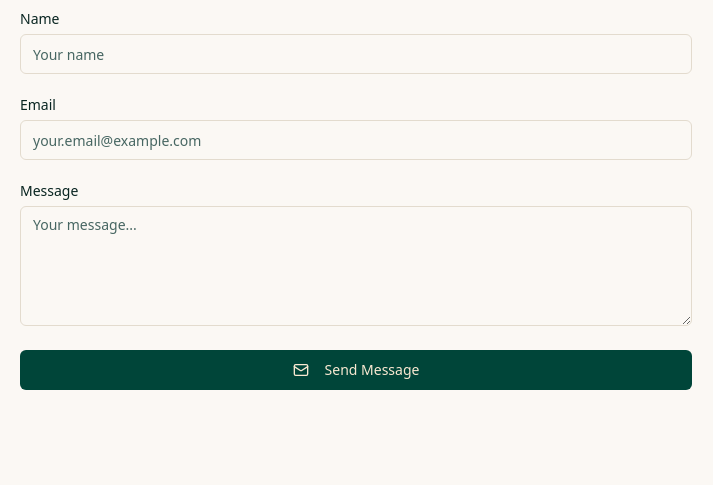
it: ContactForm › should display success message after successful submission
Type "John Doe" into the field labelled "Name". click: (356, 54)
box: [20,34,692,74]
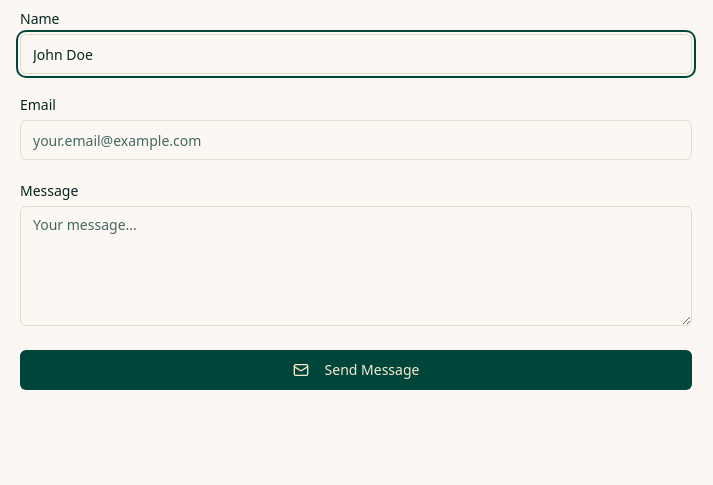
Type "john@example.com" into the field labelled "Email". click: (356, 140)
box: [20,120,692,160]
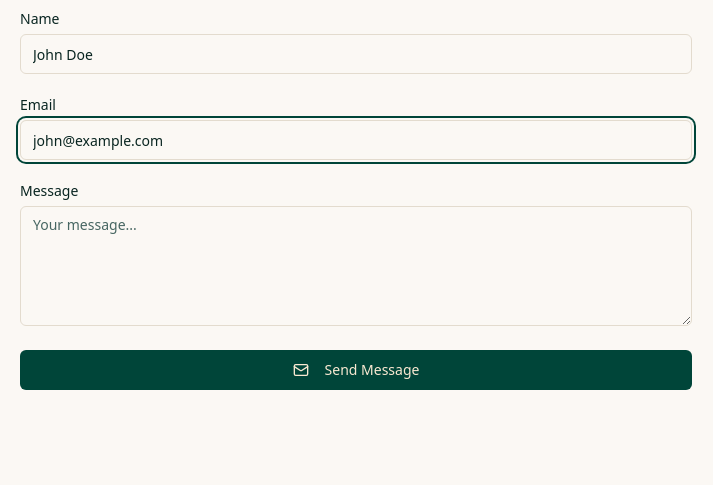
Type "This is a valid message with enough characters" into the text box labelled "Message". click: (356, 266)
box: [20,206,692,326]
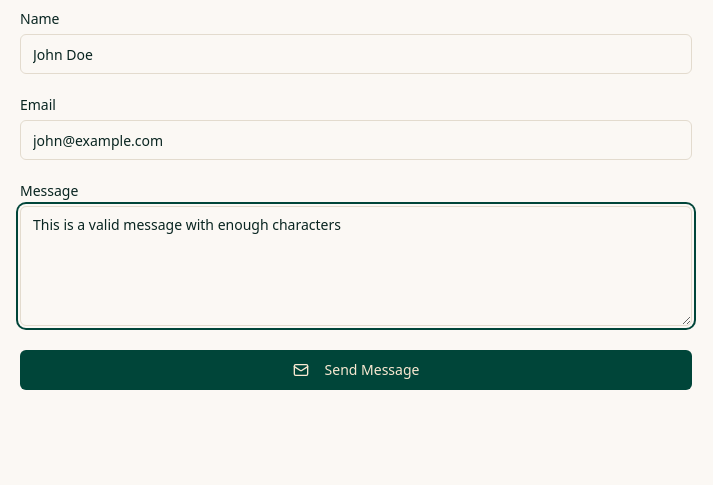
Click the button "Send Message". click: (356, 370)
box: [20,350,692,390]
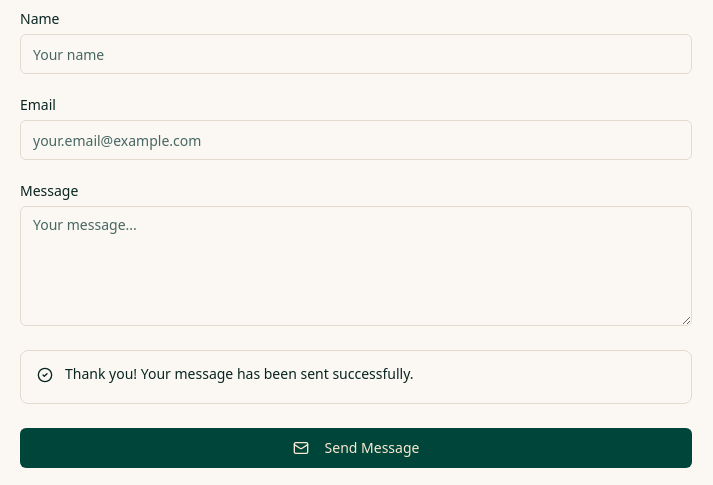
Expected: the text "Thank you! Your message has been sent successfully." is shown, [65,364,414,383]
